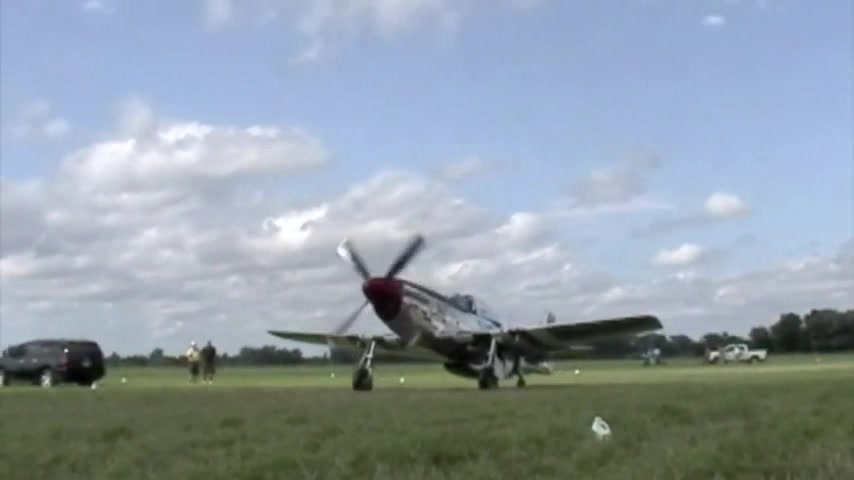aeroplane: (266, 235, 666, 395)
